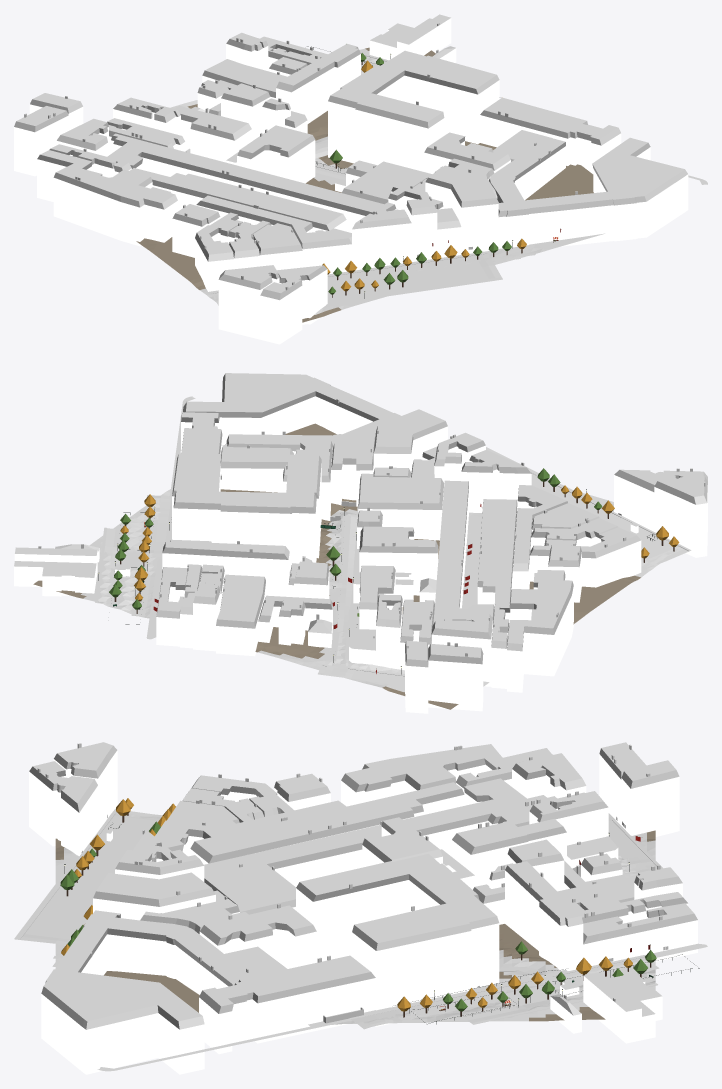
Rendered from zone_G1.glb.
3 renders of one model, top to bottom at view 1: azimuth 30°, elevation 25°; view 2: azimuth 150°, elevation 25°; view 3: azimuth 270°, elevation 25°, orthographic. The views are drawn at different scales.
Visible parts, largest first — view 1: zone_G1_batiments, zone_G1_terrain, zone_G1_sol_NOCOL, zone_G1_decor_NOCOL; view 2: zone_G1_batiments, zone_G1_sol_NOCOL, zone_G1_terrain, zone_G1_decor_NOCOL; view 3: zone_G1_batiments, zone_G1_sol_NOCOL, zone_G1_terrain, zone_G1_decor_NOCOL.
Boxes of the visible parts, <box> form: zone_G1_batiments: <box>14,14,688,344</box>; zone_G1_terrain: <box>136,47,604,322</box>; zone_G1_sol_NOCOL: <box>211,53,707,305</box>; zone_G1_decor_NOCOL: <box>307,46,526,298</box>; zone_G1_batiments: <box>14,373,707,713</box>; zone_G1_sol_NOCOL: <box>95,396,691,685</box>; zone_G1_terrain: <box>33,423,678,709</box>; zone_G1_decor_NOCOL: <box>98,468,679,674</box>; zone_G1_batiments: <box>29,742,697,1074</box>; zone_G1_sol_NOCOL: <box>14,808,707,1071</box>; zone_G1_terrain: <box>55,815,655,1024</box>; zone_G1_decor_NOCOL: <box>60,798,699,1024</box>.
Size of what is drawn, in the model's own units: 256 by 41.28 by 246.
